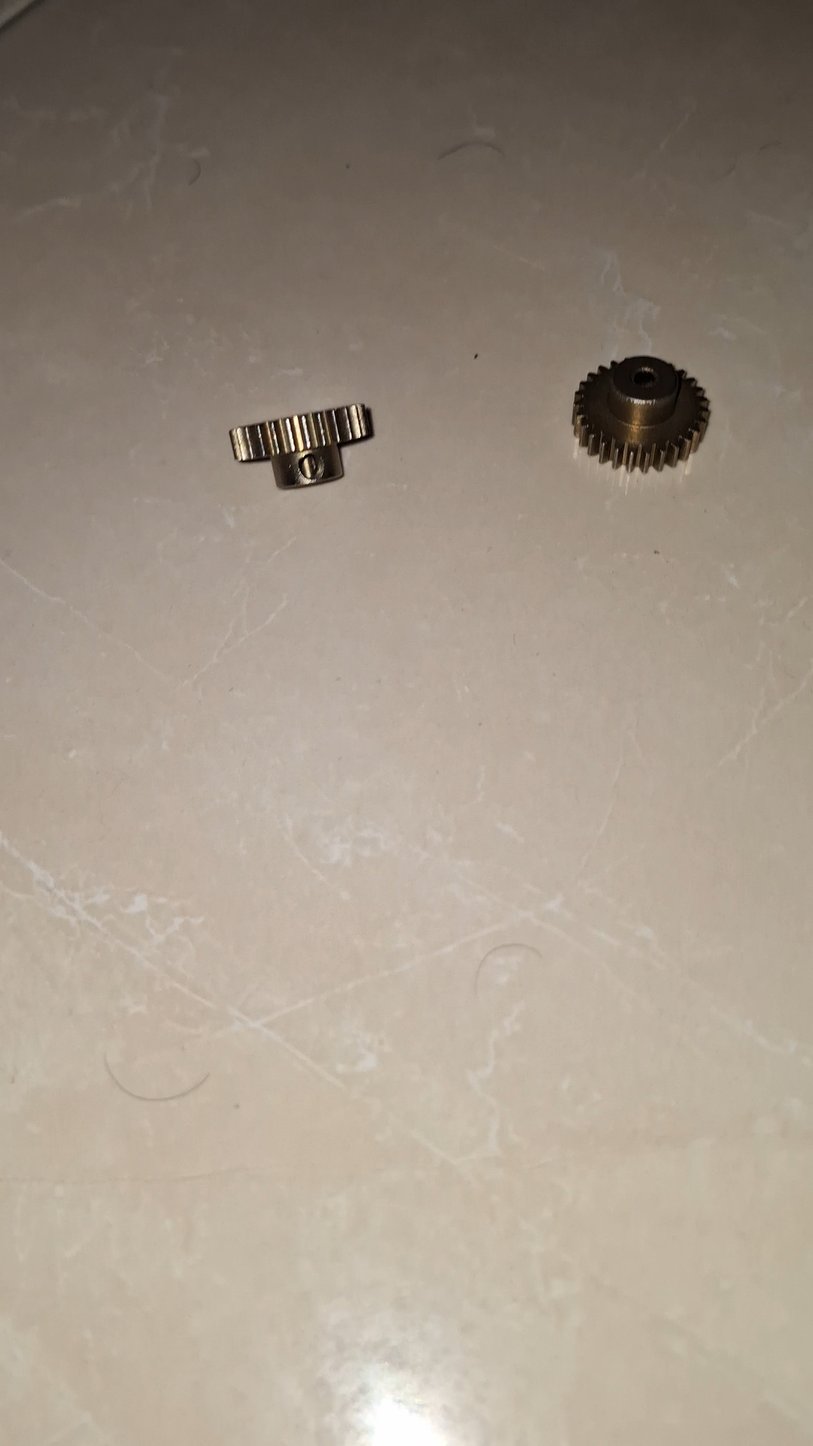spur gear: (573, 356, 709, 472), (230, 404, 371, 488)
